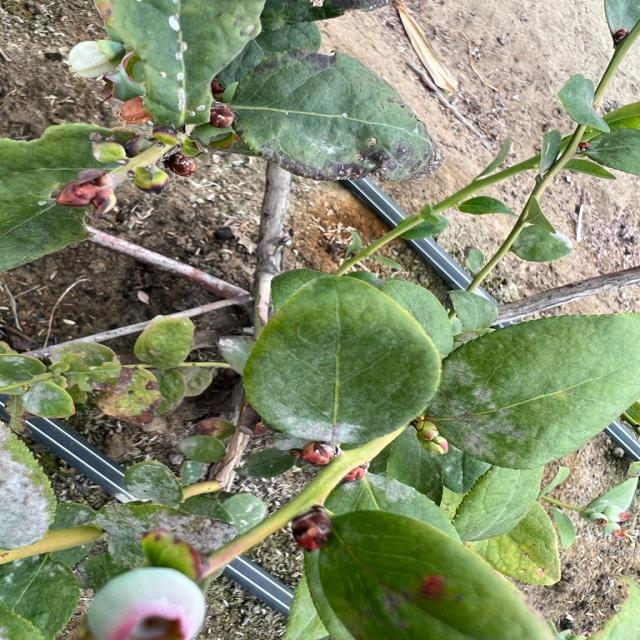Hojas con oidiosis: (220, 53, 438, 183), (269, 277, 419, 442), (435, 352, 542, 472)
